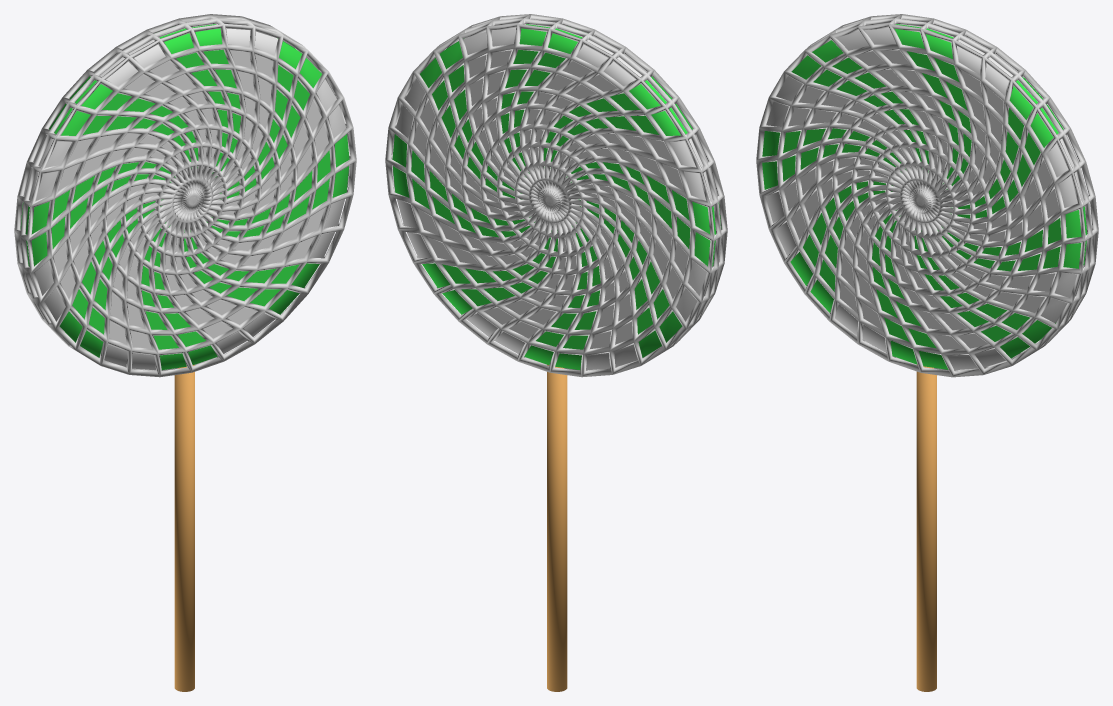
File: PIRULETA CON LUCES 3.fbx
3 views of the same model, side by side, from view 1: azimuth 30°, elevation 25°; view 2: azimuth 150°, elevation 25°; view 3: azimuth 330°, elevation 25° (orthographic).
Parts seen in each view (by area): view 1: Piruleta 3.002; view 2: Piruleta 3.002; view 3: Piruleta 3.002.
Boxes of the visible parts, box(x1,y1,x2,y2) form: Piruleta 3.002: box(14, 14, 356, 691); Piruleta 3.002: box(385, 14, 727, 691); Piruleta 3.002: box(756, 14, 1098, 691).
Bounding box in the file's own units: 648 × 1246 × 49.25.
